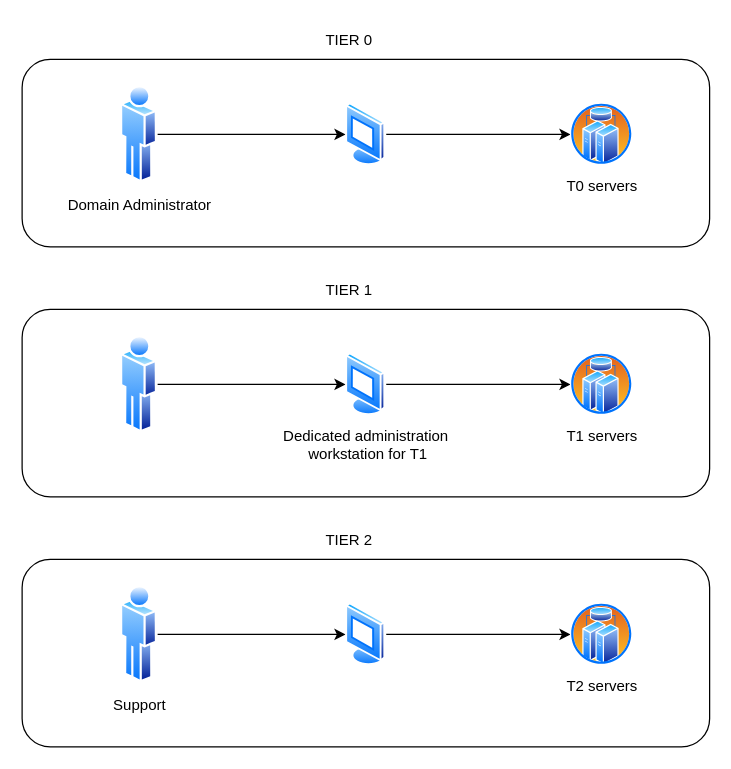
Image size: 731x769. Some labels were removed from this diagram. Each missing label, with the centre of its shape:
"Dedicated administration workstation for T0" belongs at (365,133).
"Dedicated administration workstation for T2" belongs at (365,633).
"Technical Administrator" belongs at (138,384).
